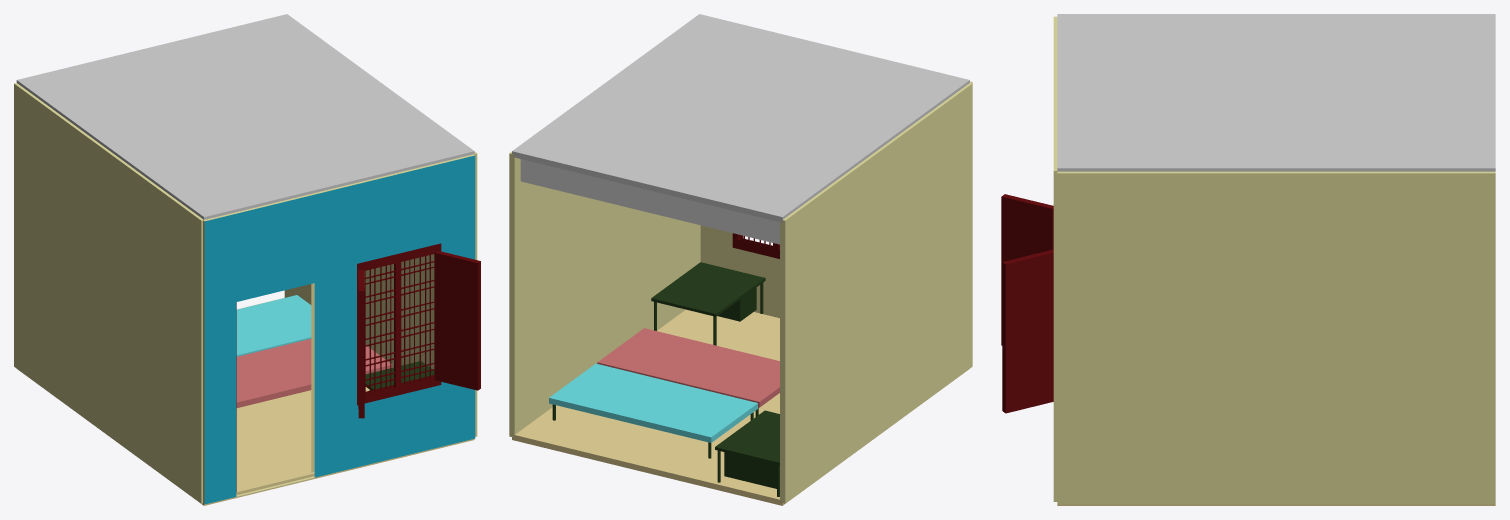
Rendered from room.fbx.
3 views of the same model, side by side, from view 1: azimuth 30°, elevation 25°; view 2: azimuth 150°, elevation 25°; view 3: azimuth 270°, elevation 25° (orthographic). The views are drawn at different scales.
Visible parts, largest first — view 1: cupwalll, roof, entwall, frame+window, Base, bedwall, grill, Bedred, bedblue, table.001; view 2: cupwalll, roof, bedwall, Base, bedblue, Bedred, Cube, table.001, table, entwall, frame+window; view 3: bedwall, roof, frame+window, entwall, Base.
Boxes of the visible parts, box(x1,y1,x2,y2) form: cupwalll: box(14, 83, 203, 503); roof: box(16, 14, 474, 219); entwall: box(203, 154, 475, 504); frame+window: box(357, 243, 480, 418); Base: box(19, 298, 474, 505); bedwall: box(284, 152, 477, 436); grill: box(364, 255, 434, 394); Bedred: box(236, 339, 392, 407); bedblue: box(236, 295, 311, 356); table.001: box(365, 361, 434, 390); cupwalll: box(780, 83, 972, 503); roof: box(512, 14, 969, 222); bedwall: box(509, 151, 700, 437); Base: box(512, 309, 968, 505); bedblue: box(549, 363, 757, 458); Bedred: box(597, 328, 779, 416); Cube: box(520, 159, 779, 244); table.001: box(651, 262, 765, 345); table: box(715, 410, 779, 496); entwall: box(700, 81, 972, 318); frame+window: box(732, 233, 779, 258); bedwall: box(1057, 171, 1495, 504); roof: box(1057, 14, 1495, 171); frame+window: box(1001, 194, 1053, 413); entwall: box(1053, 16, 1057, 501); Base: box(1057, 504, 1495, 505).
Size of the model in its own units: 1020 by 1021 by 1353.
